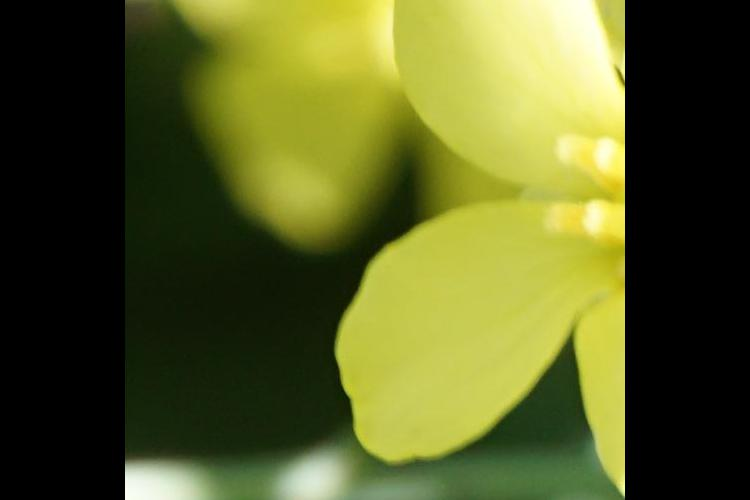yellow: (333, 1, 612, 483)
